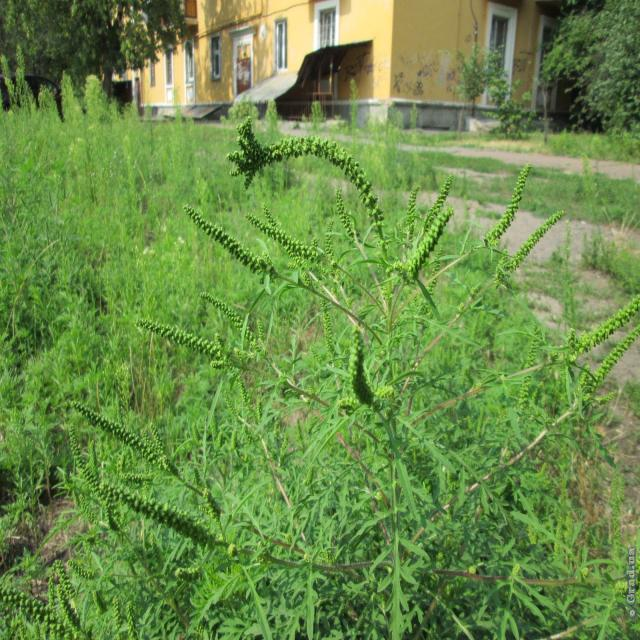ambrosia: (223, 109, 462, 284), (68, 359, 234, 572), (10, 59, 189, 254), (147, 249, 310, 429), (326, 308, 428, 460), (487, 135, 557, 285), (565, 294, 640, 389)
